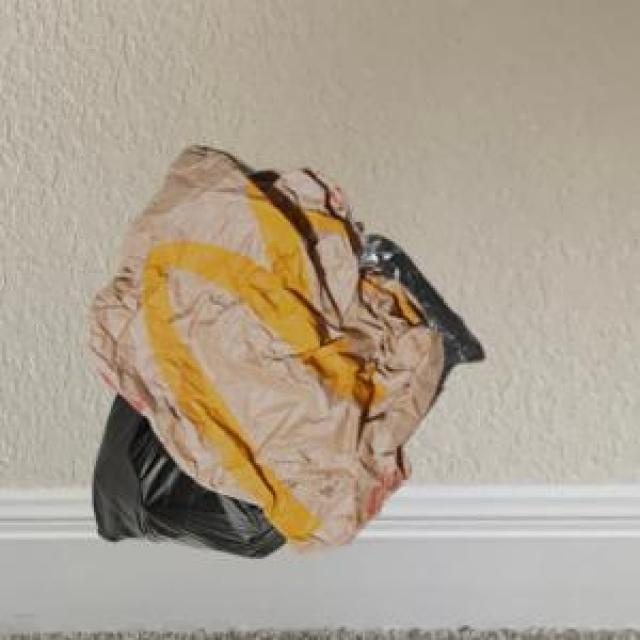miscellaneous trash: (90, 388, 284, 553)
paper: (83, 141, 440, 550)
